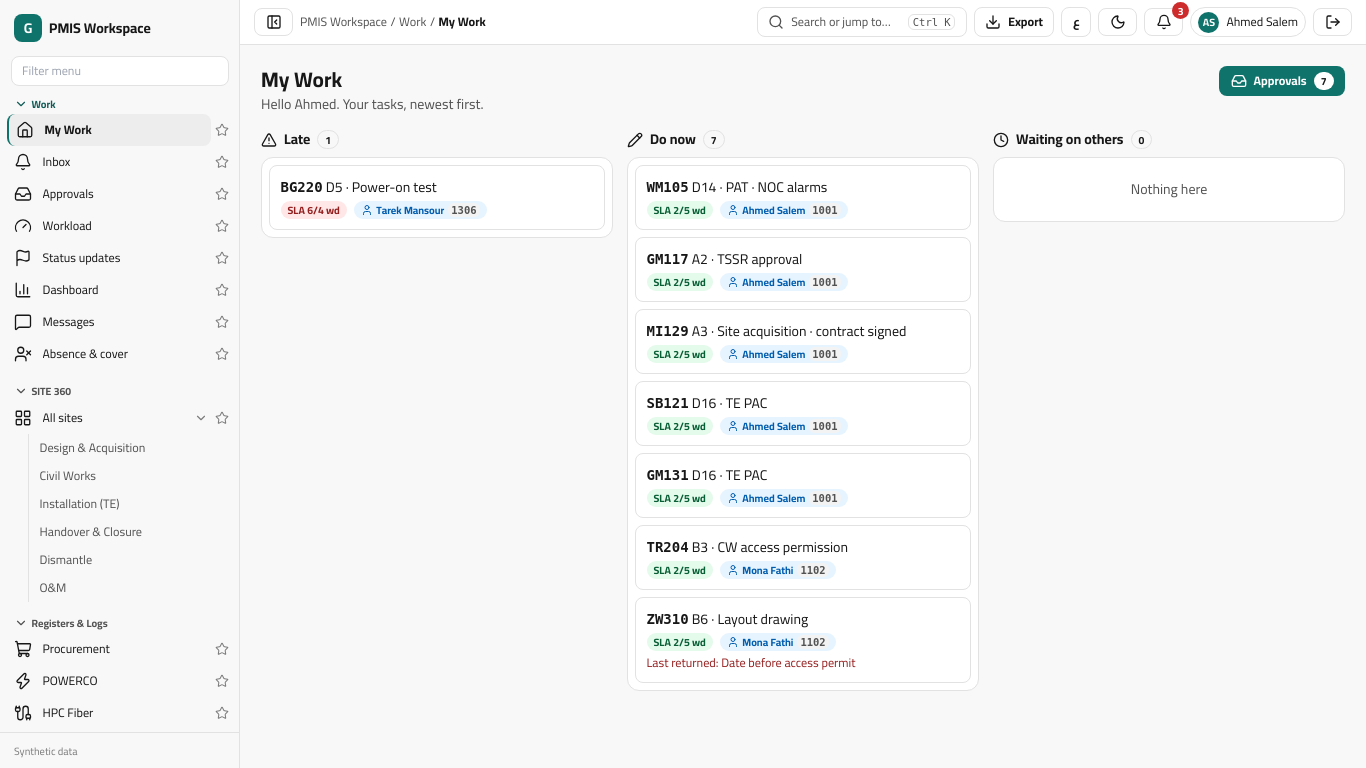
must change password › a voluntary change is reachable from the user menu
Click the button with test id "topbar-user".
click(1248, 22)  # box [1190,7,1306,37]
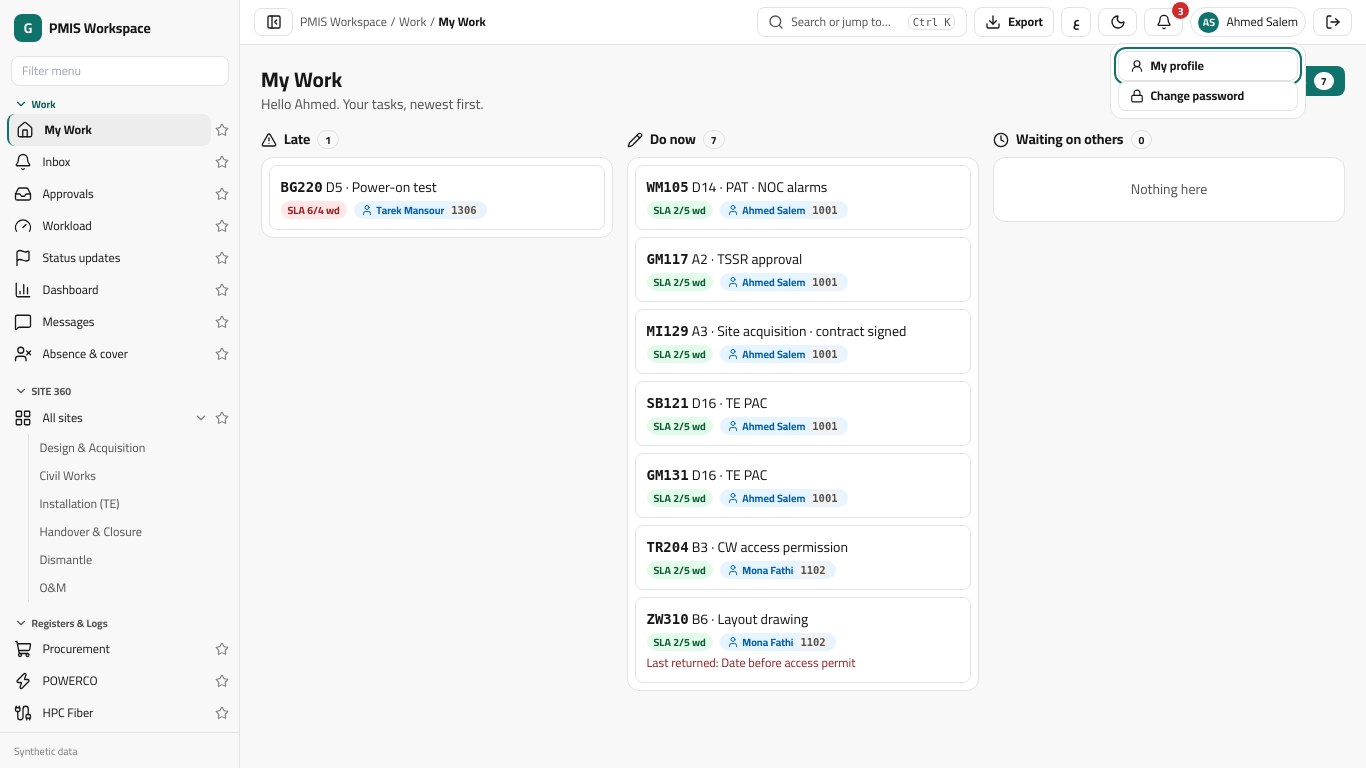
Click the button with test id "user-menu-change-password".
click(1208, 96)  # box [1118,81,1298,111]
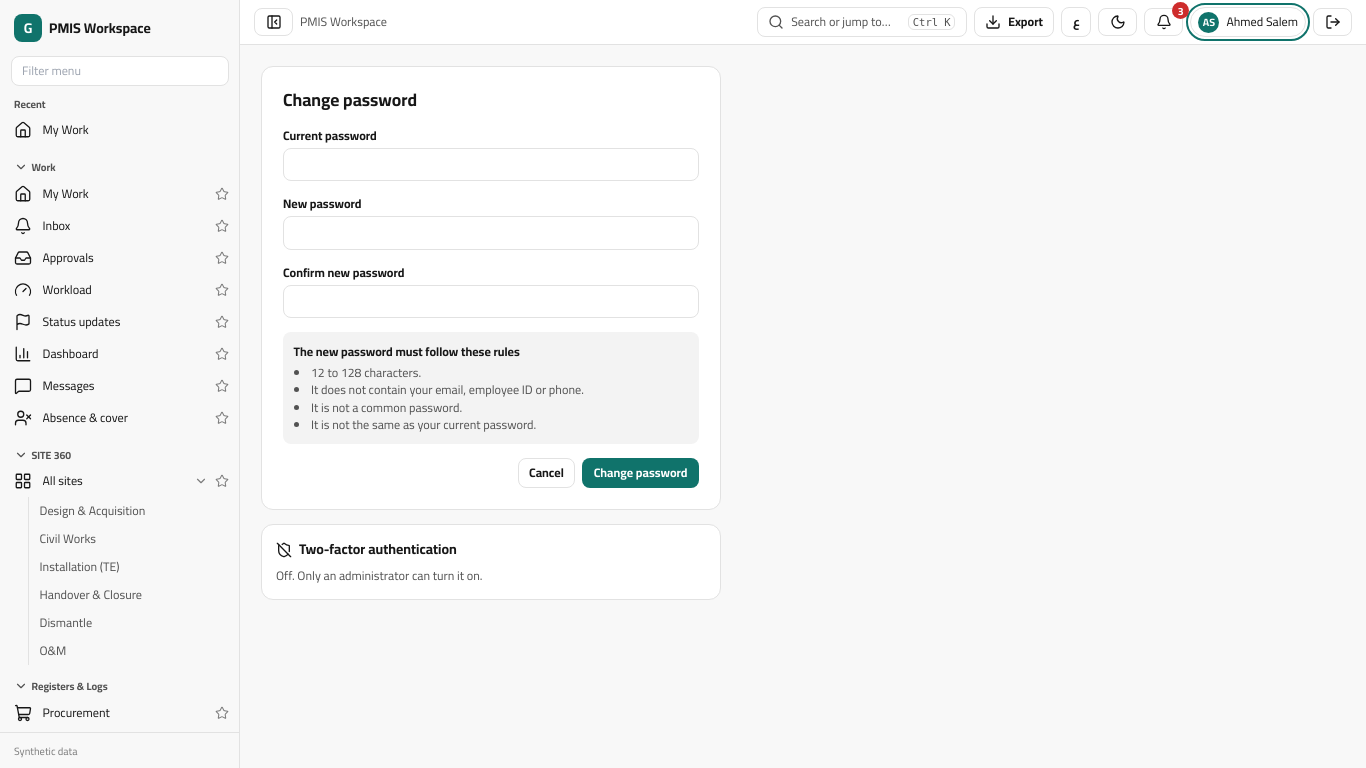
Expected: the element with test id "page-change-password" is shown, [261,66,721,600]
Type "wrong-current-pass" into the password field with test id "cp-current".
click(491, 164); type("wrong-current-pass")  # box [283,148,699,181]
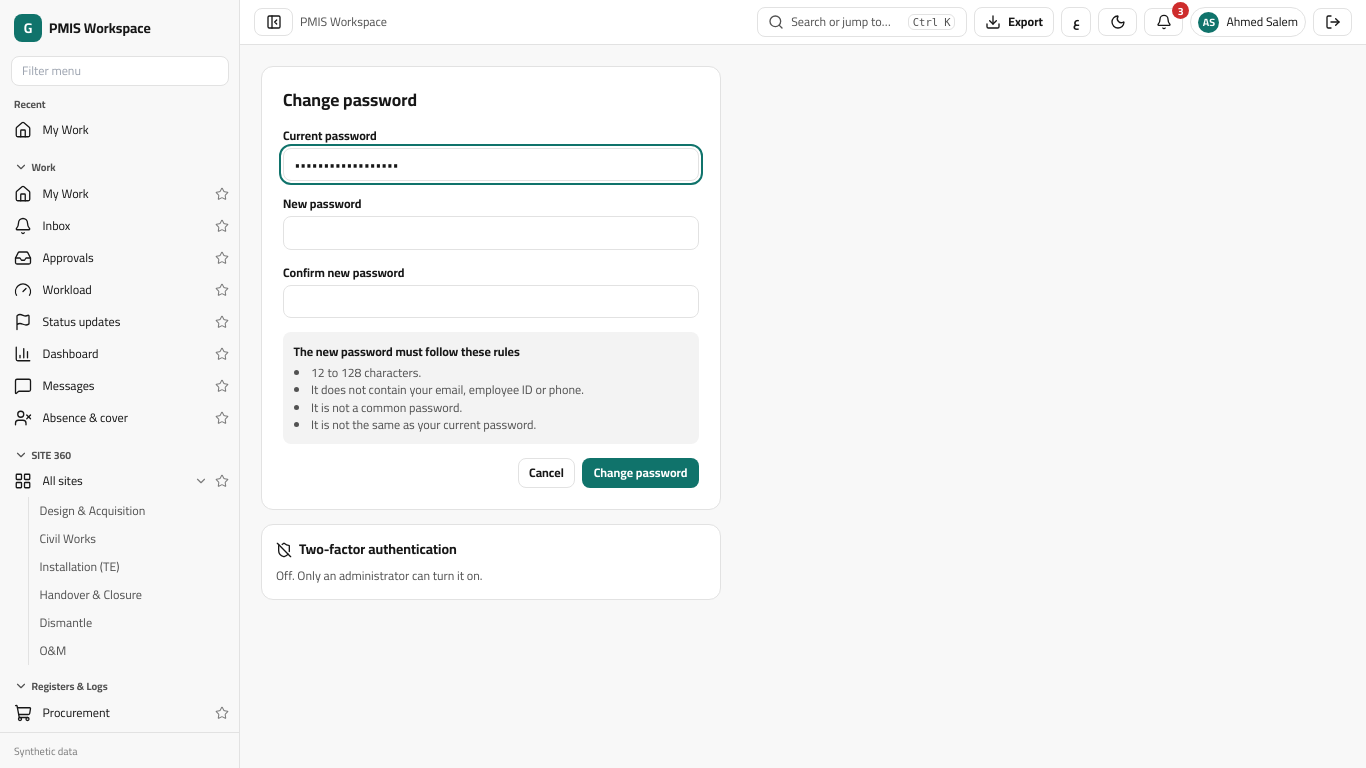
Type "A-fresh-long-passphrase-7" into the password field with test id "cp-new".
click(491, 233); type("A-fresh-long-passphrase-7")  # box [283,216,699,250]
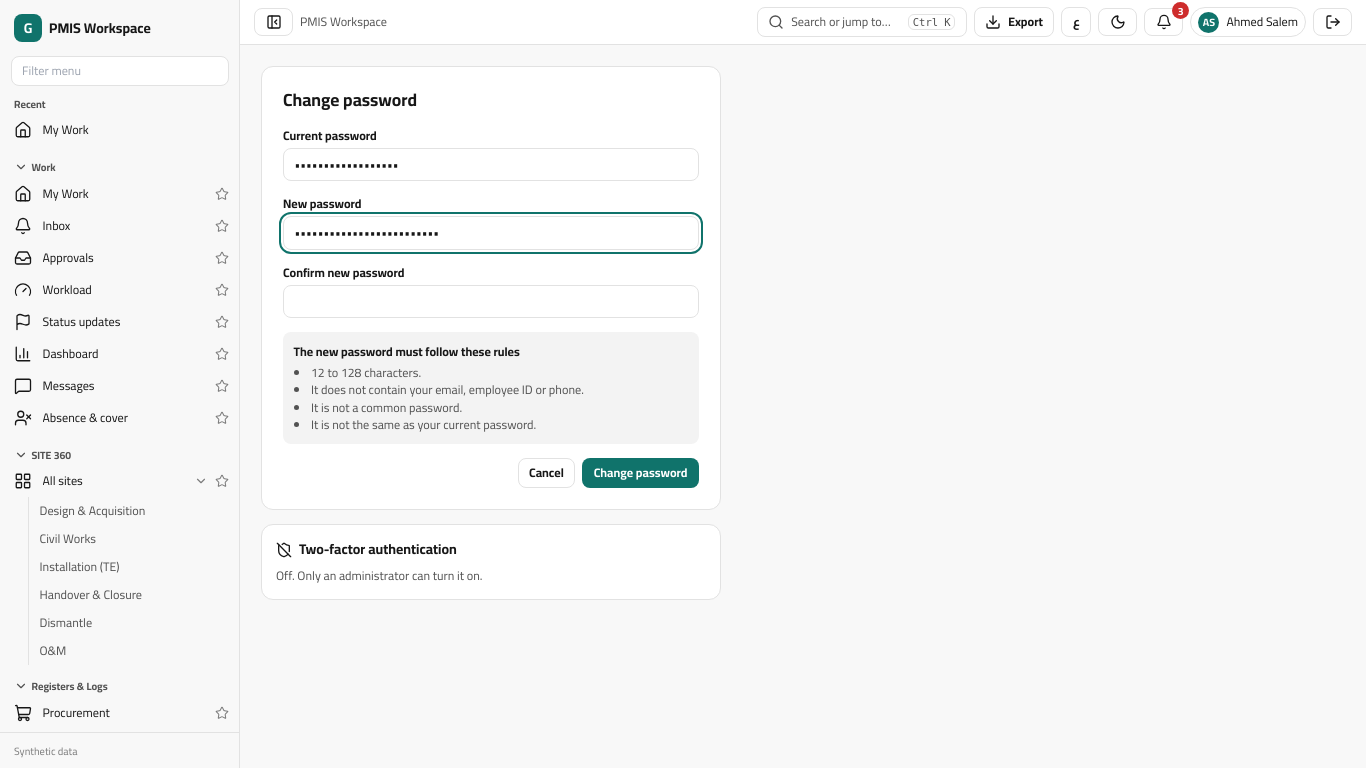
Type "A-fresh-long-passphrase-7" into the password field with test id "cp-confirm".
click(491, 301); type("A-fresh-long-passphrase-7")  # box [283,284,699,318]
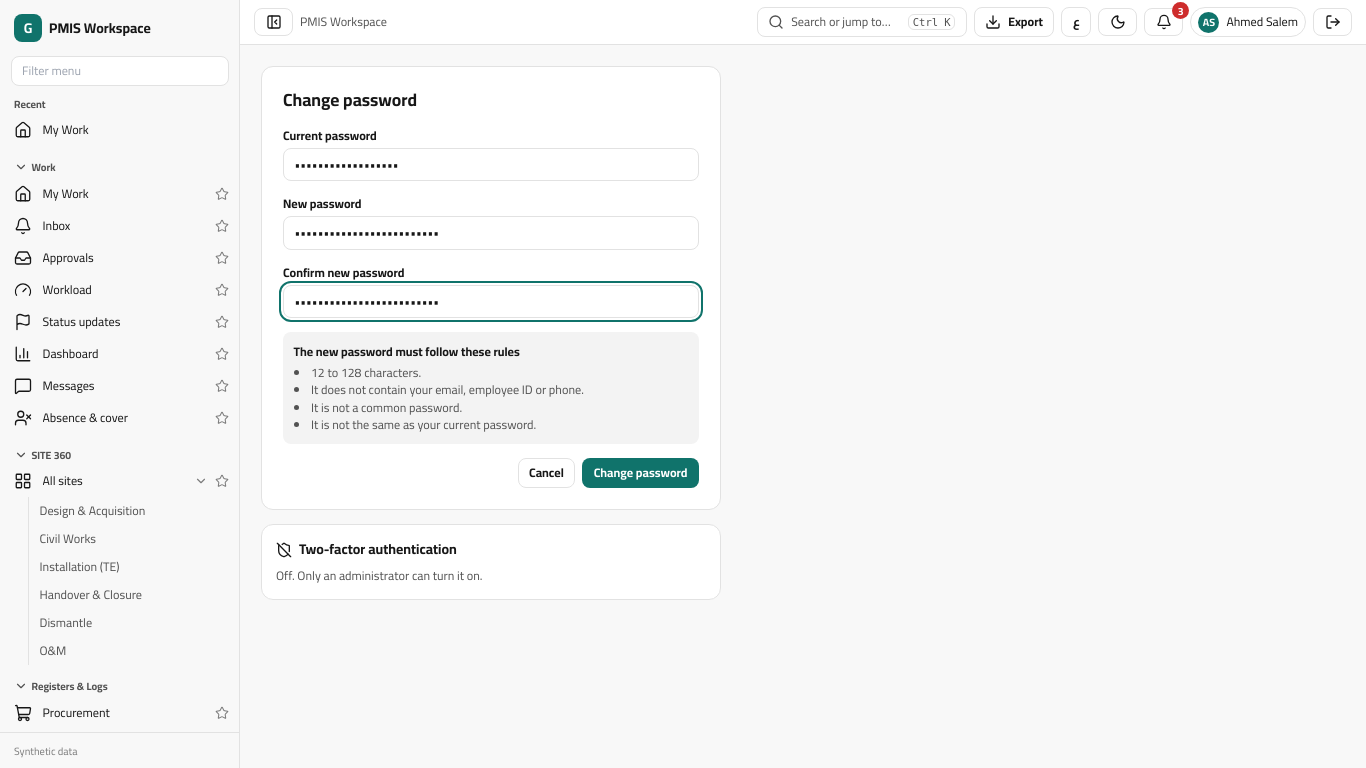
Click the button with test id "cp-submit".
click(641, 473)  # box [582,458,699,488]
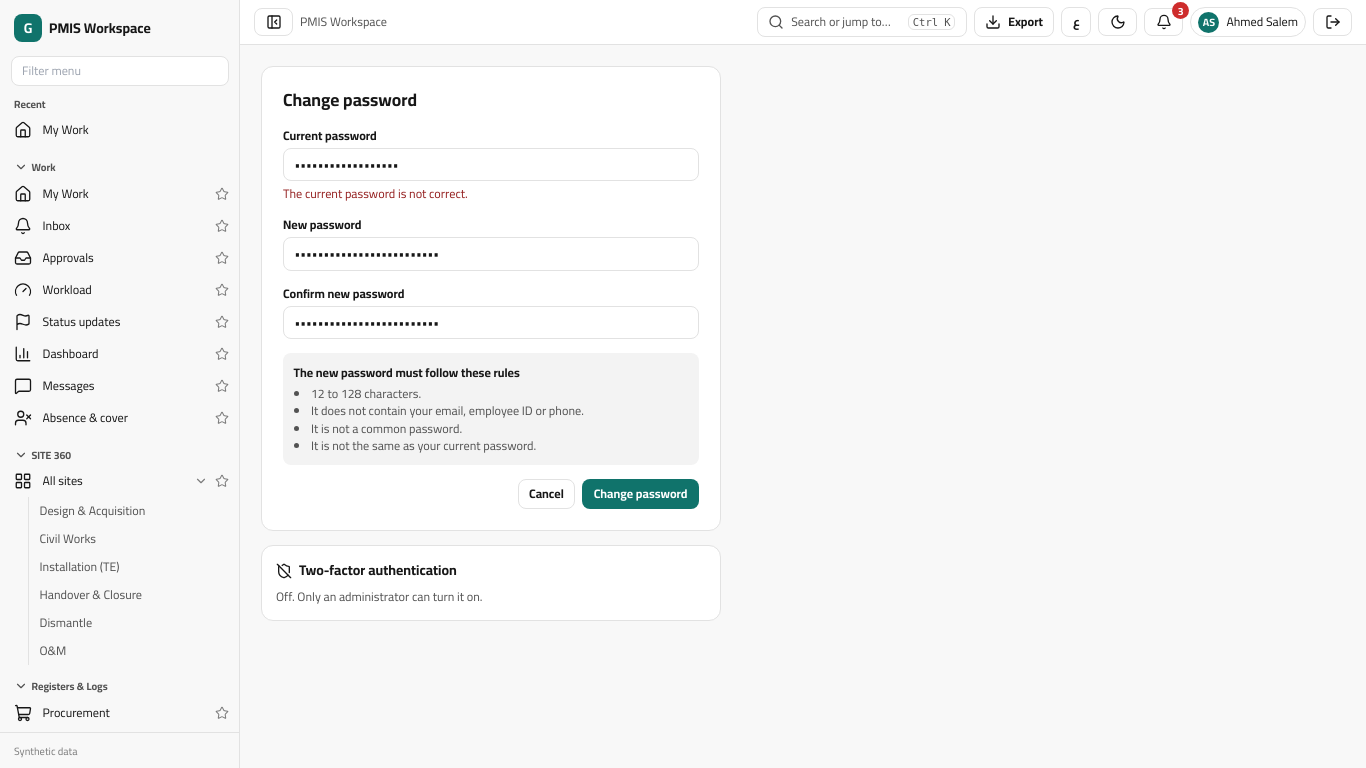
Expected: the message "The current password is not correct." is shown, [283,182,468,204]
